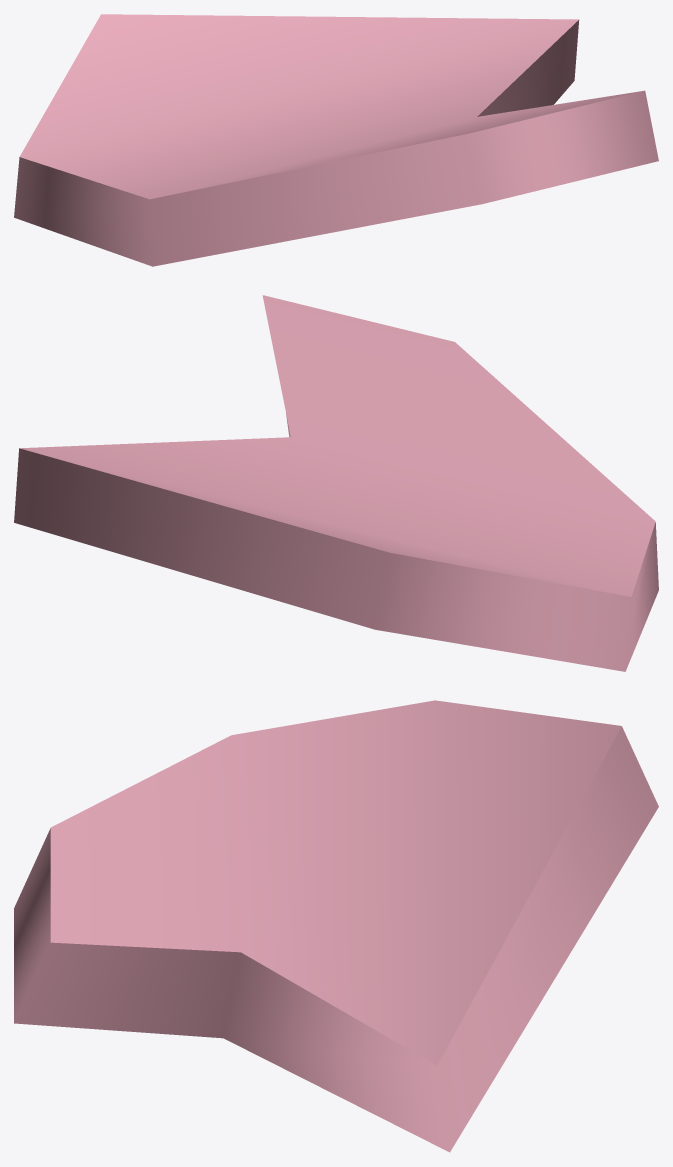
Rendered from Bottle_Shard.fbx.
The picture shows the model from 3 angles, top to bottom: view 1: azimuth 30°, elevation 25°; view 2: azimuth 150°, elevation 25°; view 3: azimuth 270°, elevation 25°; orthographic projection. The views are drawn at different scales.
Parts seen in each view (by area): view 1: Bottle_Shard; view 2: Bottle_Shard; view 3: Bottle_Shard.
Boxes of the visible parts, bbox=[...] form: Bottle_Shard: bbox=[14, 14, 658, 266]; Bottle_Shard: bbox=[14, 295, 658, 671]; Bottle_Shard: bbox=[14, 700, 658, 1152].
Bounding box in the file's own units: 8.97 × 1.83 × 6.68.
